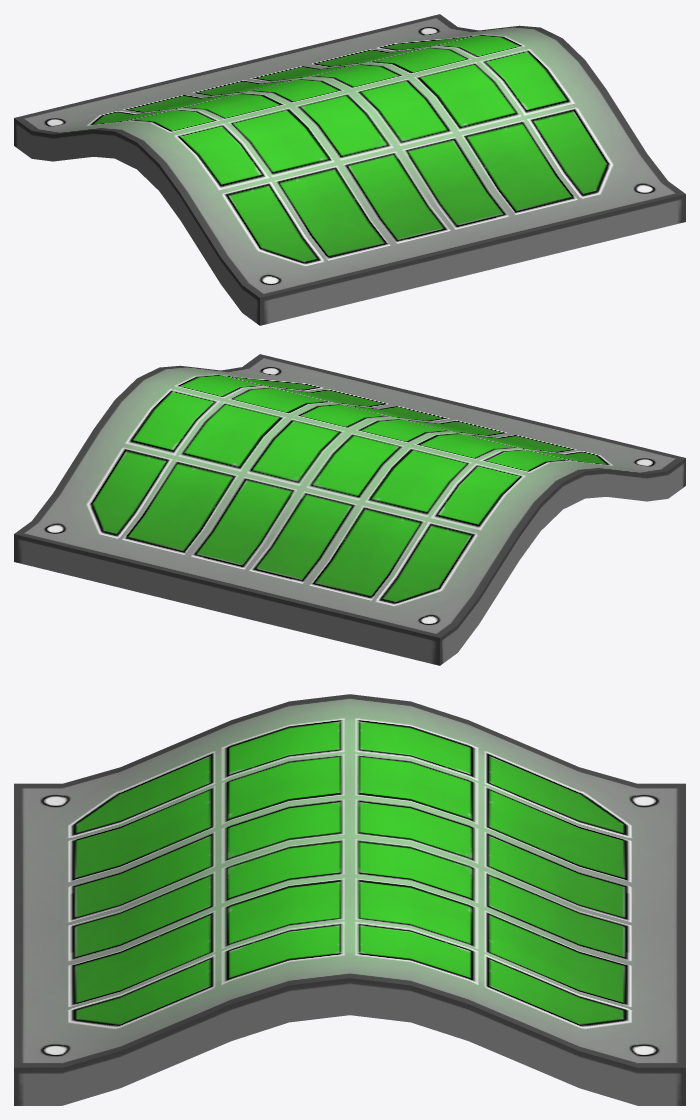
Rendered from space_bigwave.gltf.
3 views of the same model, one above another, from view 1: azimuth 30°, elevation 25°; view 2: azimuth 150°, elevation 25°; view 3: azimuth 270°, elevation 25° (orthographic). The views are drawn at different scales.
Visible parts, largest first — view 1: space_bigwave_glb; view 2: space_bigwave_glb; view 3: space_bigwave_glb.
Part boxes in pixels (left/top/right/bottom): space_bigwave_glb: left=14, top=14, right=685, bottom=325; space_bigwave_glb: left=14, top=354, right=685, bottom=665; space_bigwave_glb: left=14, top=694, right=685, bottom=1105.
Size of what is drawn, in the model's own units: 4 by 0.8385 by 4.
1 material, 1 textured.
